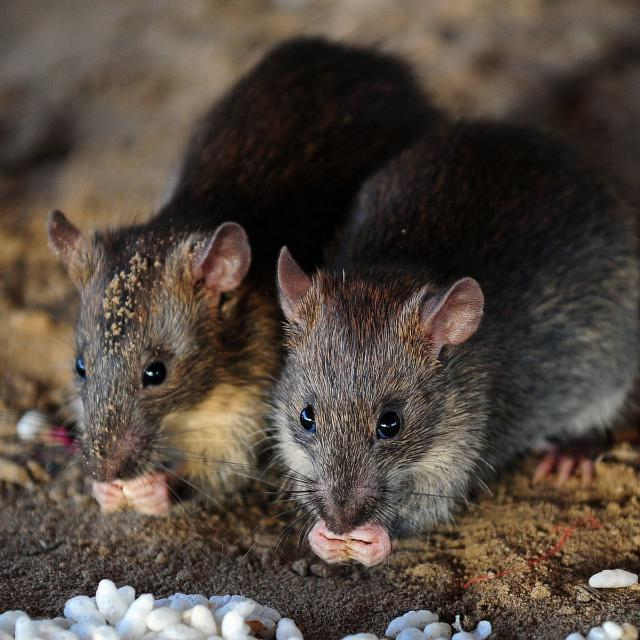rat: (258, 143, 568, 565), (18, 74, 302, 520)
